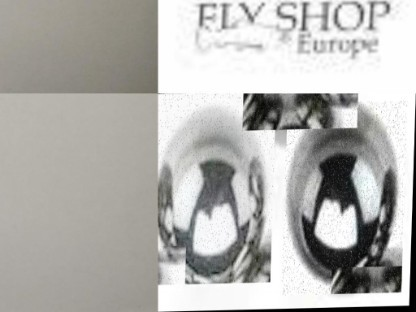ironball: (282, 101, 407, 295), (158, 93, 276, 284), (242, 93, 358, 130)
